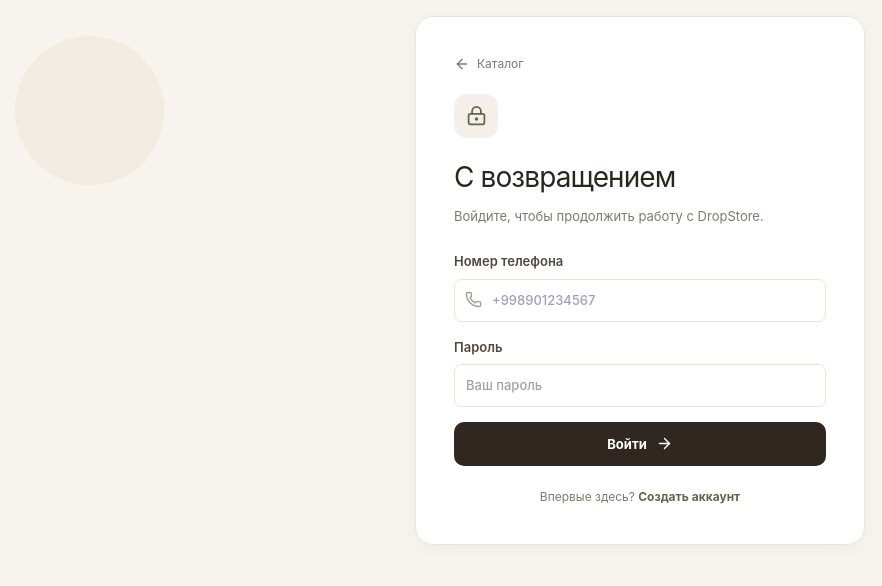
Test: LoginPage › validates phone format before sending credentials
The width and height of the screenshot is (882, 586).
Type "123" into the field with placeholder "+998901234567".
click(640, 300); type("123")  # box left=454, top=279, right=826, bottom=322
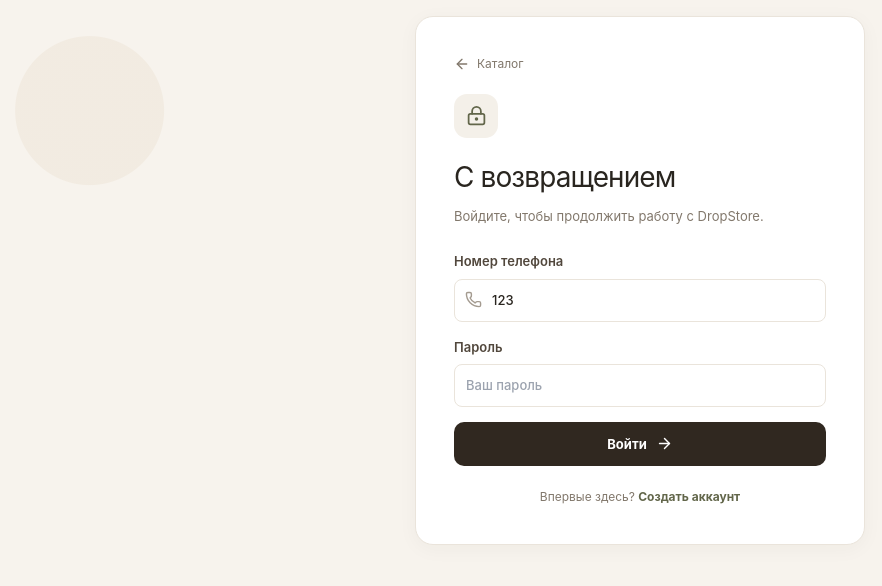
Type "a-secure-password" into the password field with placeholder "Ваш пароль".
click(640, 385); type("a-secure-password")  # box left=454, top=364, right=826, bottom=407
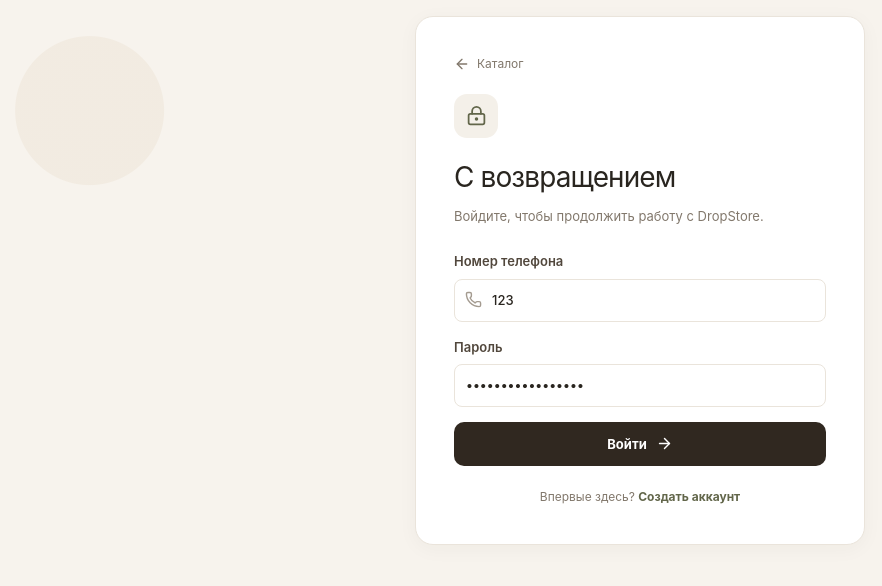
Click the button "Войти".
click(640, 444)  # box left=454, top=422, right=826, bottom=466
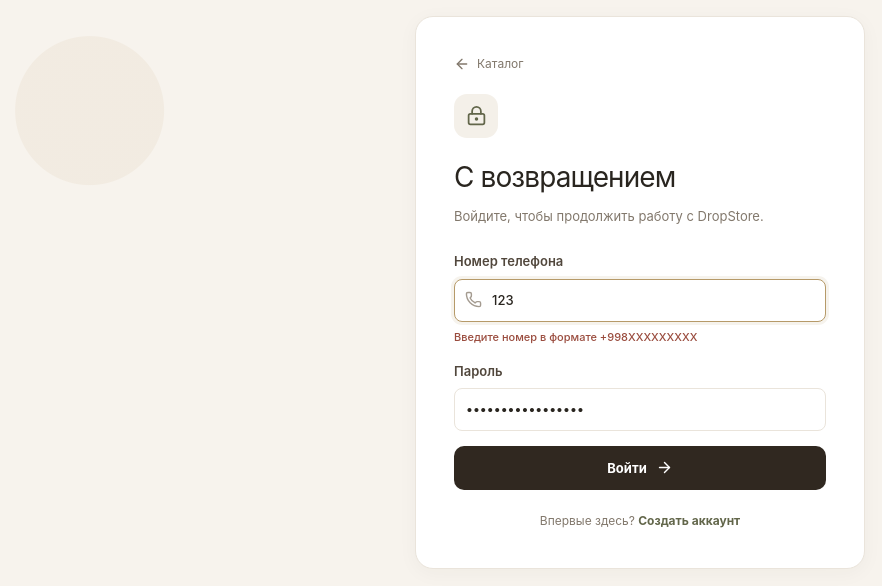
Now the text "Введите номер в формате +998XXXXXXXXX" is shown, box left=454, top=330, right=697, bottom=344
